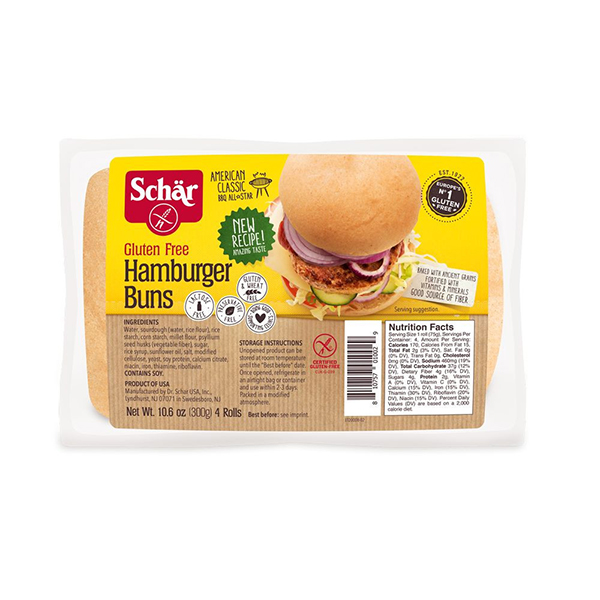hamburger_buns: (85, 110, 540, 474)
